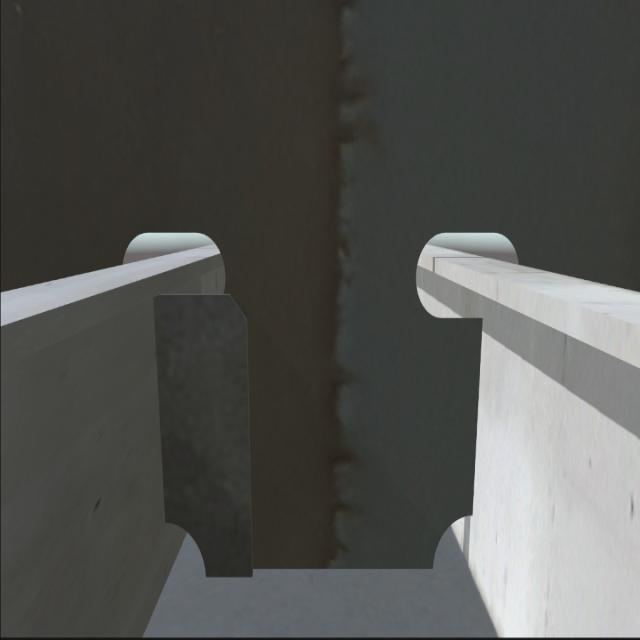fillet_hole: (167, 522, 207, 576), (437, 512, 476, 567)
fillet_yong_jeop_jang: (200, 560, 437, 590)
longi_yong_jeop_jang: (150, 292, 172, 516), (463, 302, 483, 518)
plate_CP03: (154, 295, 255, 581)
